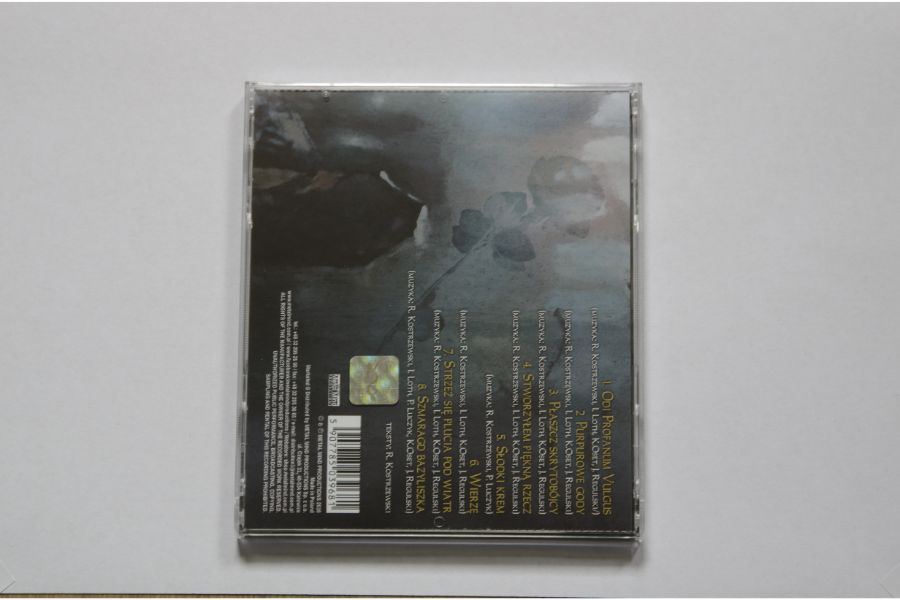album: (235, 77, 641, 547)
